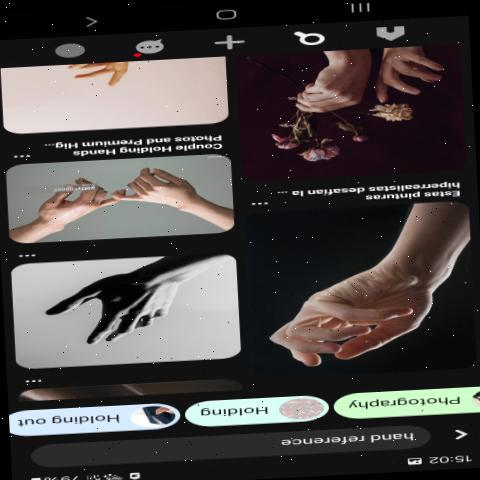Hands: (269, 232, 453, 387), (36, 274, 200, 364), (110, 162, 210, 212), (24, 177, 122, 226)
